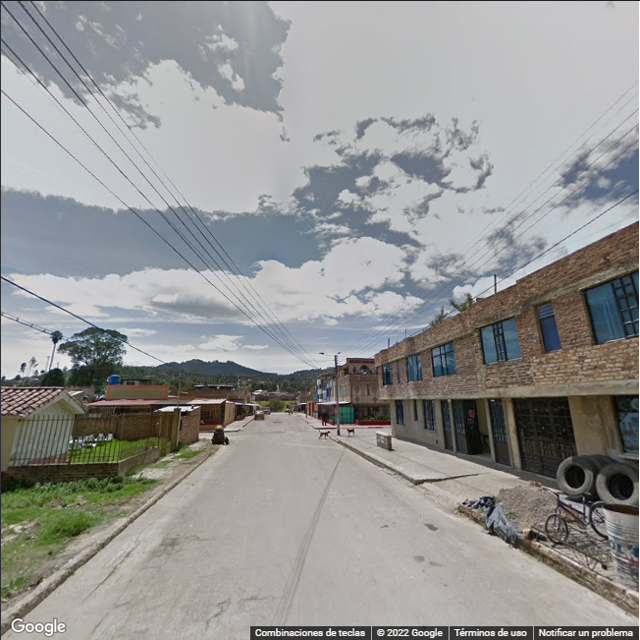D00: (79, 529, 145, 604), (88, 564, 144, 638), (199, 600, 230, 639)
D40: (160, 531, 178, 547)
